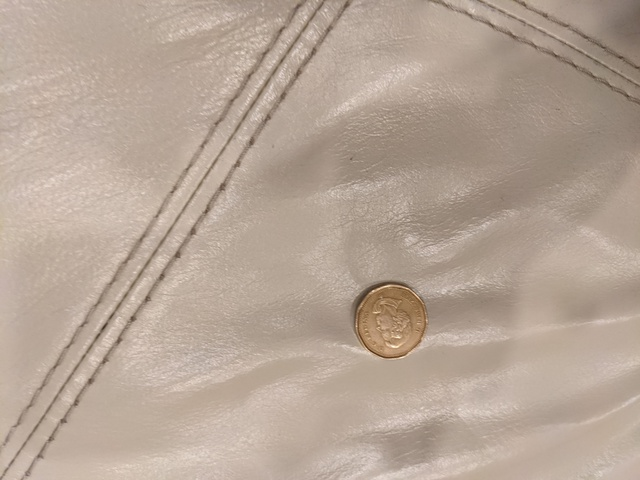loonie: (350, 265, 428, 361)
